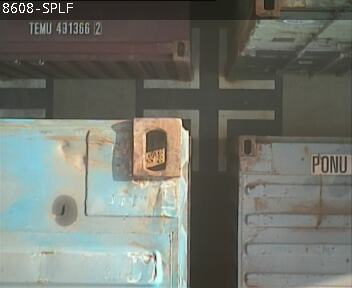groundmarker_1: (143, 110, 275, 169), (143, 30, 274, 88)
